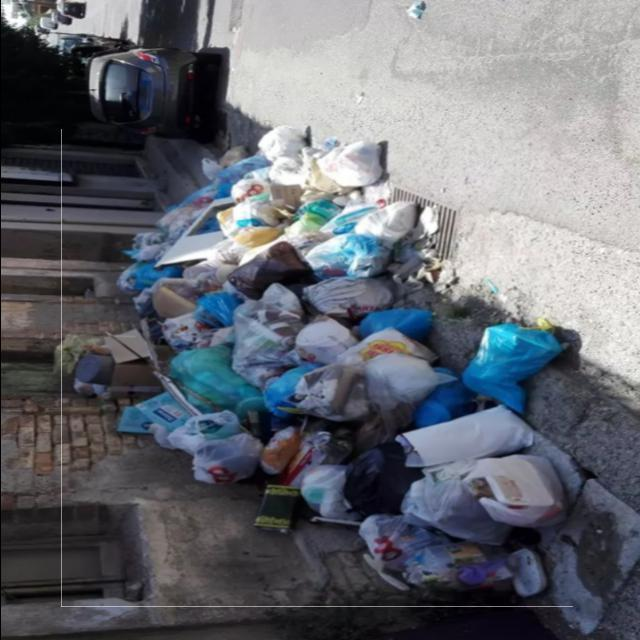Trashbag: (335, 431, 414, 523), (222, 233, 318, 308)
